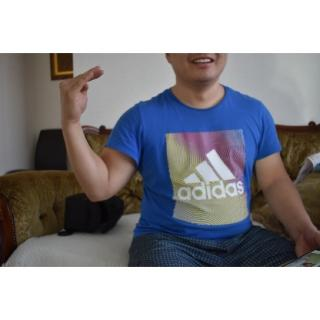HAA: (58, 62, 105, 124)
